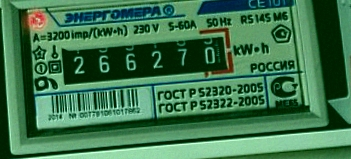0: (202, 43, 216, 65)
2: (71, 53, 86, 75), (150, 48, 163, 70)
6: (97, 53, 111, 74), (123, 51, 137, 71)
7: (174, 46, 189, 68)
screen: (50, 23, 241, 94)
